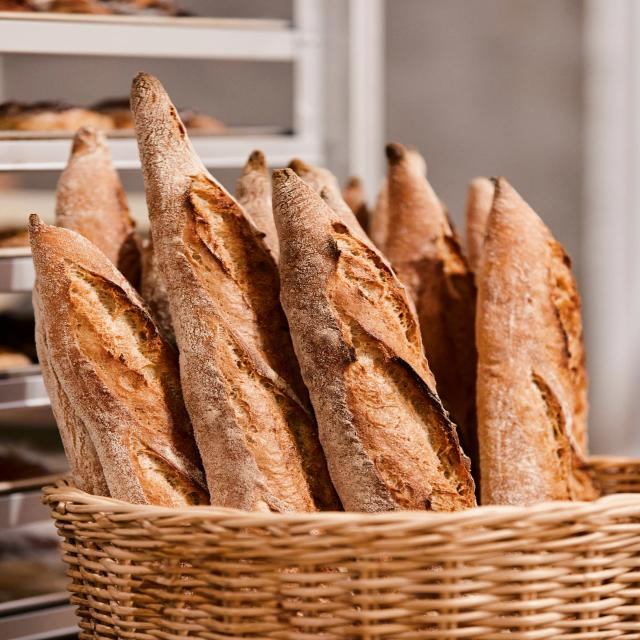Baguette: (130, 72, 343, 515), (269, 159, 477, 515), (29, 214, 210, 508), (462, 177, 602, 508)
